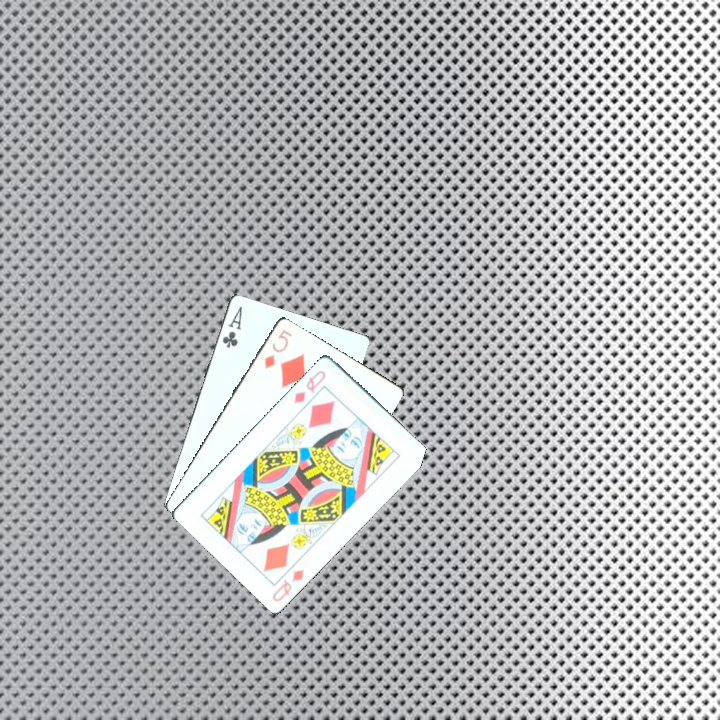5d: (260, 325, 295, 371)
Ac: (218, 302, 245, 351)
Qd: (289, 366, 330, 413), (268, 565, 307, 604)
